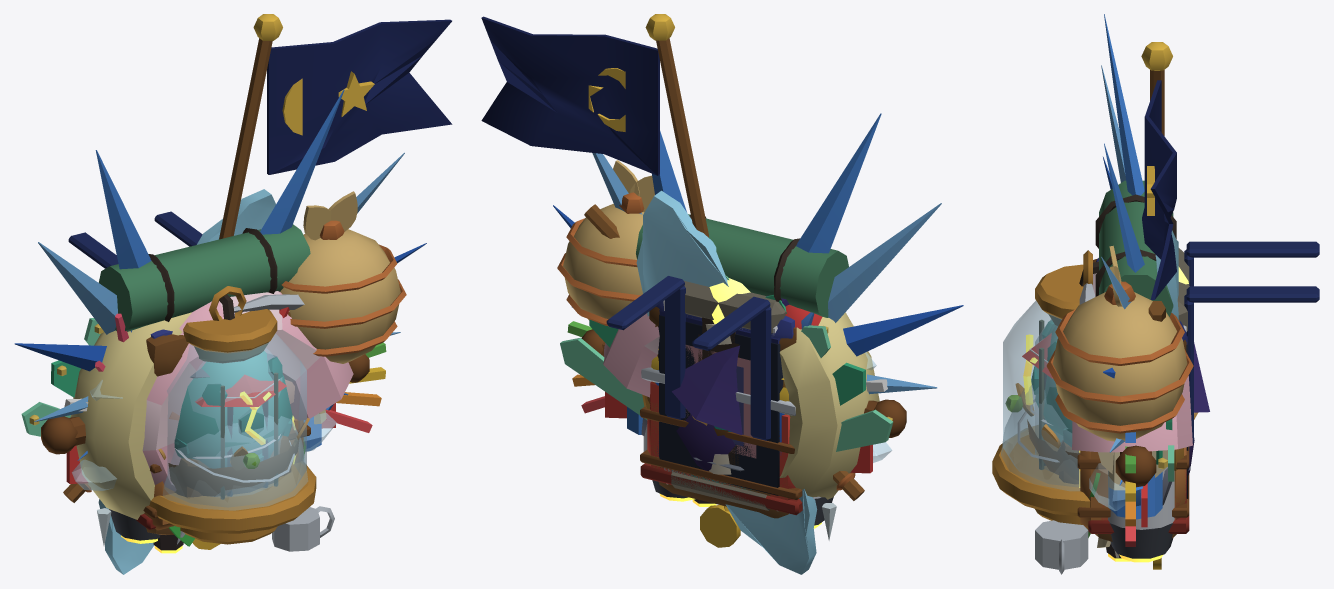
Rendered from cosm250_dos_v001.glb.
3 renders of one model, left to right at view 1: azimuth 30°, elevation 25°; view 2: azimuth 150°, elevation 25°; view 3: azimuth 270°, elevation 25°, orthographic. The views are drawn at different scales.
Parts seen in each view (by area): view 1: dos_terrarium_volant, dos_drapeau_corsaire, dos_sac_explorateur, dos_mini_planetarium, dos_baluchon_du_desert, dos_oreiller_lunaire, dos_ailes_saphir, dos_oeuf_de_dragonnet, dos_coquille_des_marees, dos_bocal_a_lucioles, dos_parchemin_des_brumes, dos_planche_de_glace (+8 smaller); view 2: dos_drapeau_corsaire, dos_ailes_saphir, dos_oreiller_lunaire, dos_planche_de_glace, dos_baluchon_du_desert, dos_sac_explorateur, dos_eventail_de_jade, dos_sac_de_comete, dos_reservoir_abyssal, dos_coquille_des_marees, dos_boite_a_outils_stellaire, dos_relique_des_ruines (+6 smaller); view 3: dos_baluchon_du_desert, dos_terrarium_volant, dos_ailes_saphir, dos_mini_planetarium, dos_sac_explorateur, dos_drapeau_corsaire, dos_jardin_portable, dos_oeuf_de_dragonnet, dos_jetpack_retro, dos_parchemin_des_brumes, dos_coquille_des_marees, dos_bocal_a_lucioles (+7 smaller).
Part boxes in pixels (left/top/right/bottom): dos_terrarium_volant: left=164, top=286, right=306, bottom=544; dos_drapeau_corsaire: left=219, top=14, right=452, bottom=239; dos_sac_explorateur: left=98, top=224, right=334, bottom=551; dos_mini_planetarium: left=149, top=416, right=316, bottom=533; dos_baluchon_du_desert: left=63, top=191, right=406, bottom=502; dos_oreiller_lunaire: left=70, top=312, right=191, bottom=519; dos_ailes_saphir: left=14, top=89, right=426, bottom=460; dos_oeuf_de_dragonnet: left=158, top=351, right=309, bottom=496; dos_coquille_des_marees: left=142, top=291, right=353, bottom=491; dos_bocal_a_lucioles: left=188, top=342, right=281, bottom=499; dos_parchemin_des_brumes: left=41, top=354, right=369, bottom=490; dos_planche_de_glace: left=97, top=189, right=275, bottom=574; dos_drapeau_corsaire: left=481, top=14, right=734, bottom=465; dos_ailes_saphir: left=553, top=113, right=963, bottom=440; dos_oreiller_lunaire: left=732, top=312, right=879, bottom=499; dos_planche_de_glace: left=636, top=190, right=836, bottom=574; dos_baluchon_du_desert: left=557, top=160, right=864, bottom=500; dos_sac_explorateur: left=636, top=214, right=848, bottom=518; dos_eventail_de_jade: left=560, top=275, right=893, bottom=451; dos_sac_de_comete: left=672, top=295, right=789, bottom=470; dos_reservoir_abyssal: left=658, top=315, right=783, bottom=495; dos_coquille_des_marees: left=603, top=313, right=756, bottom=458; dos_boite_a_outils_stellaire: left=640, top=367, right=802, bottom=515; dos_relique_des_ruines: left=671, top=281, right=785, bottom=510; dos_baluchon_du_desert: left=1046, top=245, right=1193, bottom=441; dos_terrarium_volant: left=1003, top=250, right=1092, bottom=524; dos_ailes_saphir: left=1101, top=14, right=1319, bottom=485; dos_mini_planetarium: left=992, top=336, right=1187, bottom=515; dos_sac_explorateur: left=1035, top=180, right=1186, bottom=574; dos_drapeau_corsaire: left=1141, top=42, right=1176, bottom=299; dos_jardin_portable: left=1077, top=446, right=1189, bottom=529; dos_oeuf_de_dragonnet: left=1015, top=320, right=1197, bottom=480; dos_jetpack_retro: left=1108, top=467, right=1174, bottom=562; dos_parchemin_des_brumes: left=1089, top=445, right=1174, bottom=547; dos_coquille_des_marees: left=1072, top=273, right=1192, bottom=452; dos_bocal_a_lucioles: left=1035, top=274, right=1094, bottom=469.
Bounding box in the file's own units: 1.07 × 1.16 × 0.615.
